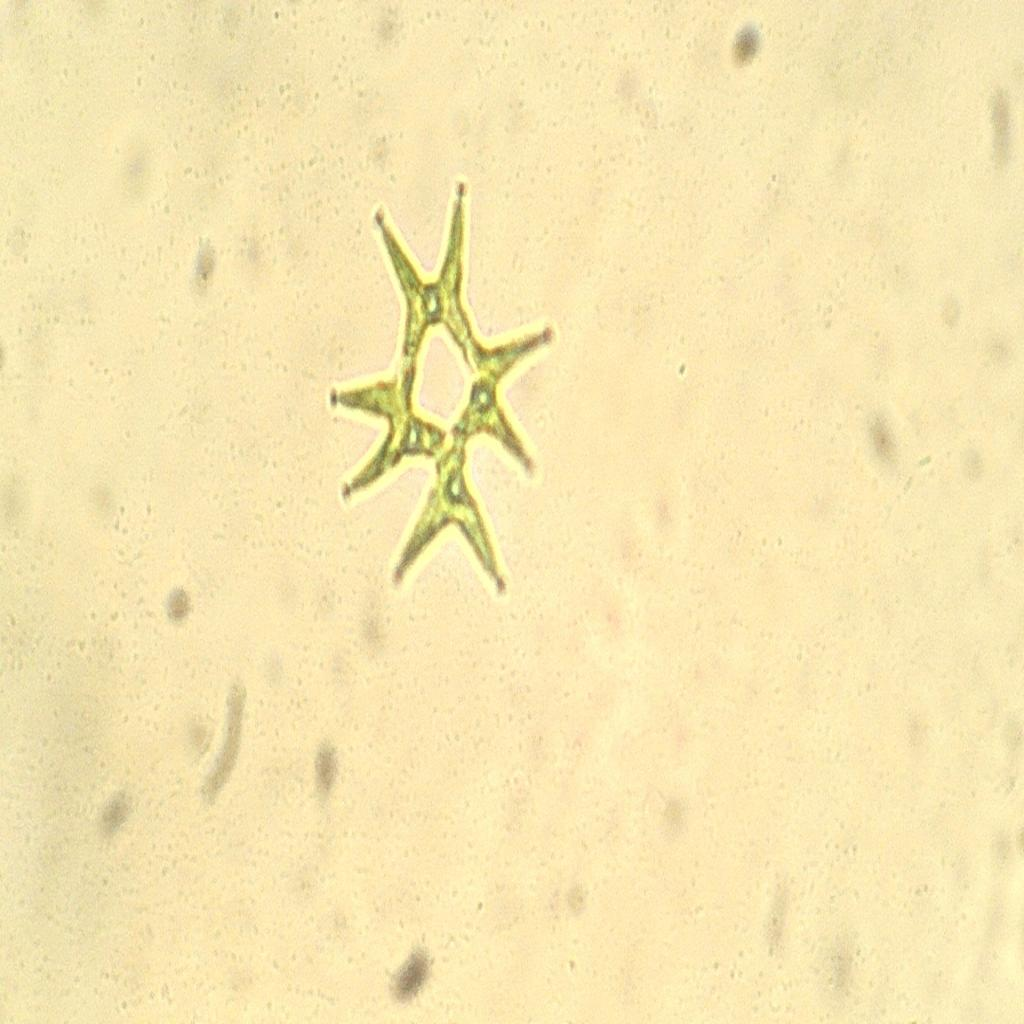Pediastrum_75FI: (317, 153, 567, 615)
